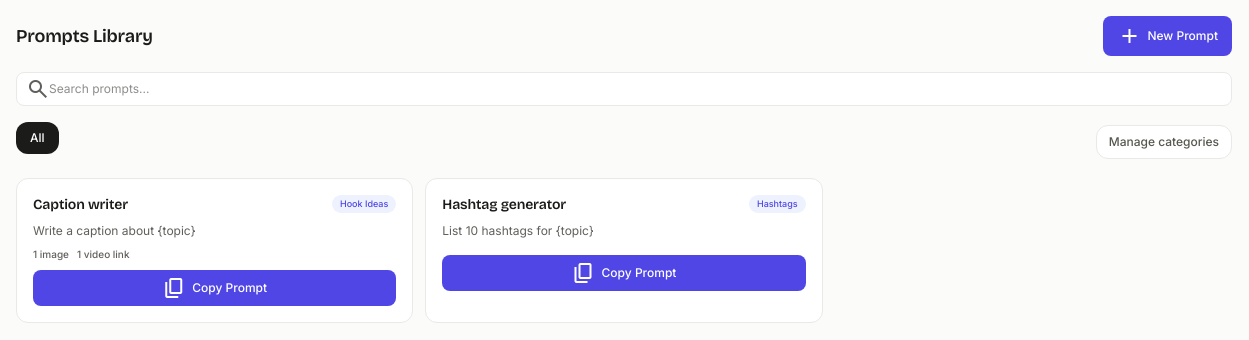
Test: PromptsLibrary › filters by search text
Type "hashtag" into the field with placeholder "Search prompts...".
click(624, 89); type("hashtag")  # box [16,72,1232,106]
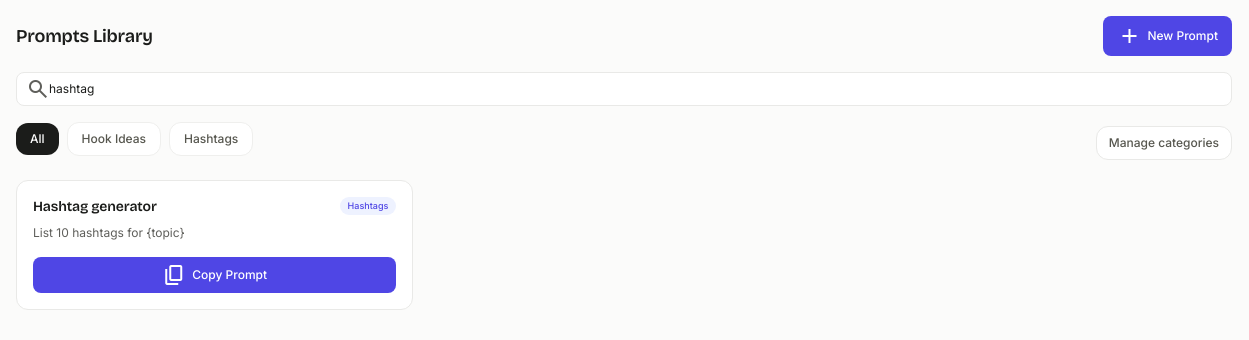
Expected: the heading "Hashtag generator" is shown, [33,197,157,217]
Now the heading "Caption writer" is gone
